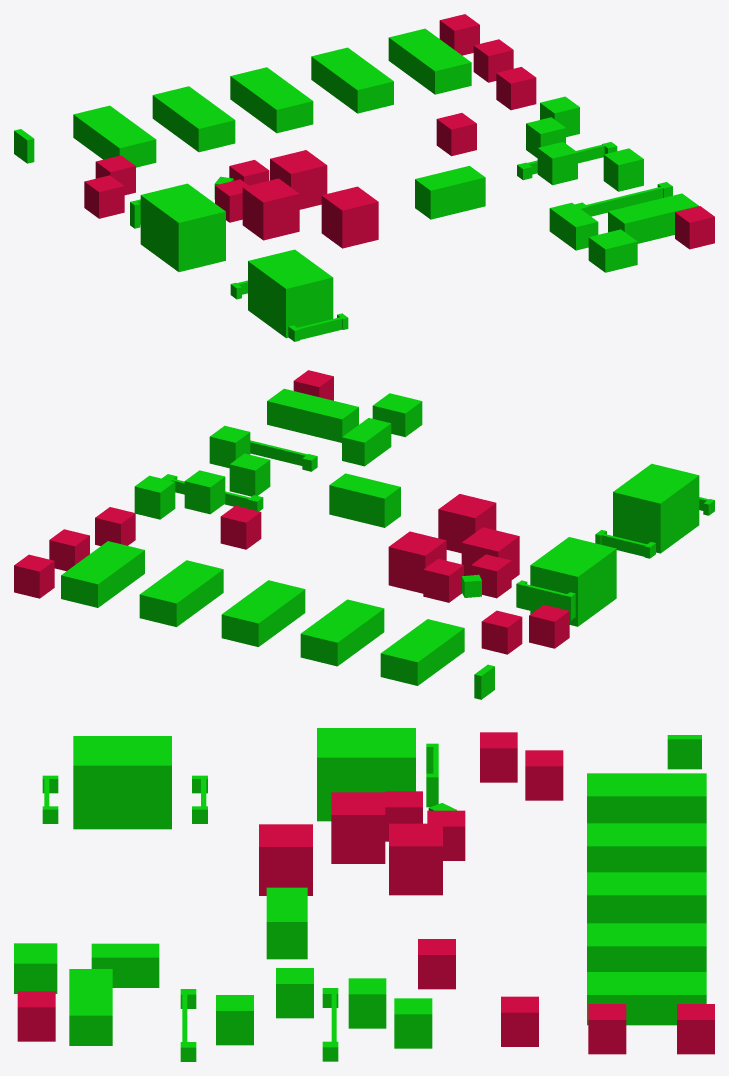
The model's file is navMesh2.glb.
3 renders of one model, top to bottom at view 1: azimuth 30°, elevation 25°; view 2: azimuth 150°, elevation 25°; view 3: azimuth 270°, elevation 25°, orthographic. The views are drawn at different scales.
Visible parts, largest first — view 1: Cube.032, Cube.033, Cube.004, Cube.009, Cube.005, Cube.007, Cube, Cube.071, Cube.069, Cube.010, Cube.059, Cube.070 (+18 smaller); view 2: Cube.033, Cube.032, Cube, Cube.004, Cube.005, Cube.007, Cube.009, Cube.059, Cube.010, Cube.070, Cube.071, Cube.069 (+19 smaller); view 3: Cube.033, Cube.032, Cube.005, Cube, Cube.004, Cube.007, Cube.009, Cube.069, Cube.070, Cube.071, Cube.059, Cube.010 (+16 smaller).
Boxes of the visible parts, box(x1,y1,x2,y2) form: Cube.032: box(140, 183, 225, 271); Cube.033: box(248, 249, 333, 338); Cube.004: box(152, 86, 235, 152); Cube.009: box(388, 28, 471, 94); Cube.005: box(230, 67, 313, 133); Cube.007: box(311, 47, 393, 113); Cube: box(73, 105, 156, 167); Cube.071: box(321, 186, 378, 248); Cube.069: box(242, 178, 299, 240); Cube.010: box(415, 166, 485, 219); Cube.059: box(608, 193, 698, 243); Cube.070: box(270, 150, 327, 209); Cube.033: box(613, 463, 699, 553); Cube.032: box(530, 537, 616, 626); Cube: box(380, 619, 464, 685); Cube.004: box(300, 599, 384, 666); Cube.005: box(221, 580, 305, 646); Cube.007: box(139, 560, 223, 626); Cube.009: box(61, 541, 144, 607); Cube.059: box(267, 388, 358, 442); Cube.010: box(329, 473, 400, 527); Cube.070: box(388, 531, 446, 593); Cube.071: box(438, 494, 496, 553); Cube.069: box(461, 527, 519, 579); Cube.033: box(73, 736, 171, 829); Cube.032: box(317, 728, 415, 821); Cube.005: box(587, 872, 706, 923); Cube: box(587, 773, 706, 823); Cube.004: box(587, 823, 706, 872); Cube.007: box(587, 923, 706, 971); Cube.009: box(587, 972, 706, 1025); Cube.069: box(331, 792, 385, 863); Cube.070: box(389, 823, 442, 895); Cube.071: box(259, 824, 312, 895); Cube.059: box(69, 969, 112, 1045); Cube.010: box(266, 887, 307, 959).
Size of what is drawn, in the model's own units: 40.99 by 4.22 by 42.11.
